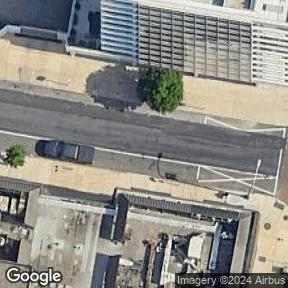vegetation: (135, 68, 185, 114), (2, 143, 30, 171)
